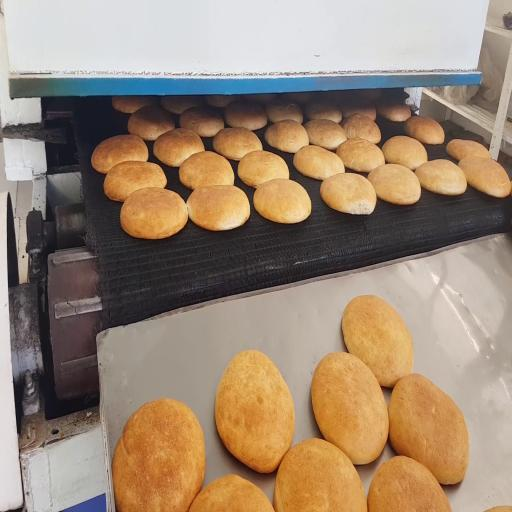bread: (112, 399, 205, 511), (215, 350, 294, 473), (389, 374, 469, 484), (312, 352, 388, 464), (274, 439, 366, 511), (342, 295, 413, 387), (368, 457, 451, 511), (121, 188, 187, 239), (189, 475, 274, 511), (187, 185, 250, 230), (104, 161, 167, 201), (254, 179, 311, 223), (320, 173, 376, 214), (368, 164, 421, 205), (91, 135, 148, 173), (179, 152, 234, 190), (459, 157, 510, 197), (154, 128, 204, 167), (238, 151, 289, 187), (415, 160, 466, 195), (294, 146, 344, 180), (337, 138, 385, 173), (128, 105, 175, 140), (213, 128, 262, 160), (382, 136, 427, 170), (265, 120, 309, 153), (180, 107, 224, 137), (305, 120, 346, 150), (225, 100, 266, 130), (342, 114, 381, 144), (404, 116, 444, 144), (447, 139, 491, 160), (266, 99, 303, 123), (112, 96, 156, 114), (305, 101, 342, 122), (161, 96, 202, 114), (376, 101, 411, 121), (342, 102, 376, 121), (204, 95, 239, 108), (283, 92, 316, 105), (242, 93, 277, 105), (354, 89, 381, 100), (486, 506, 511, 511)
